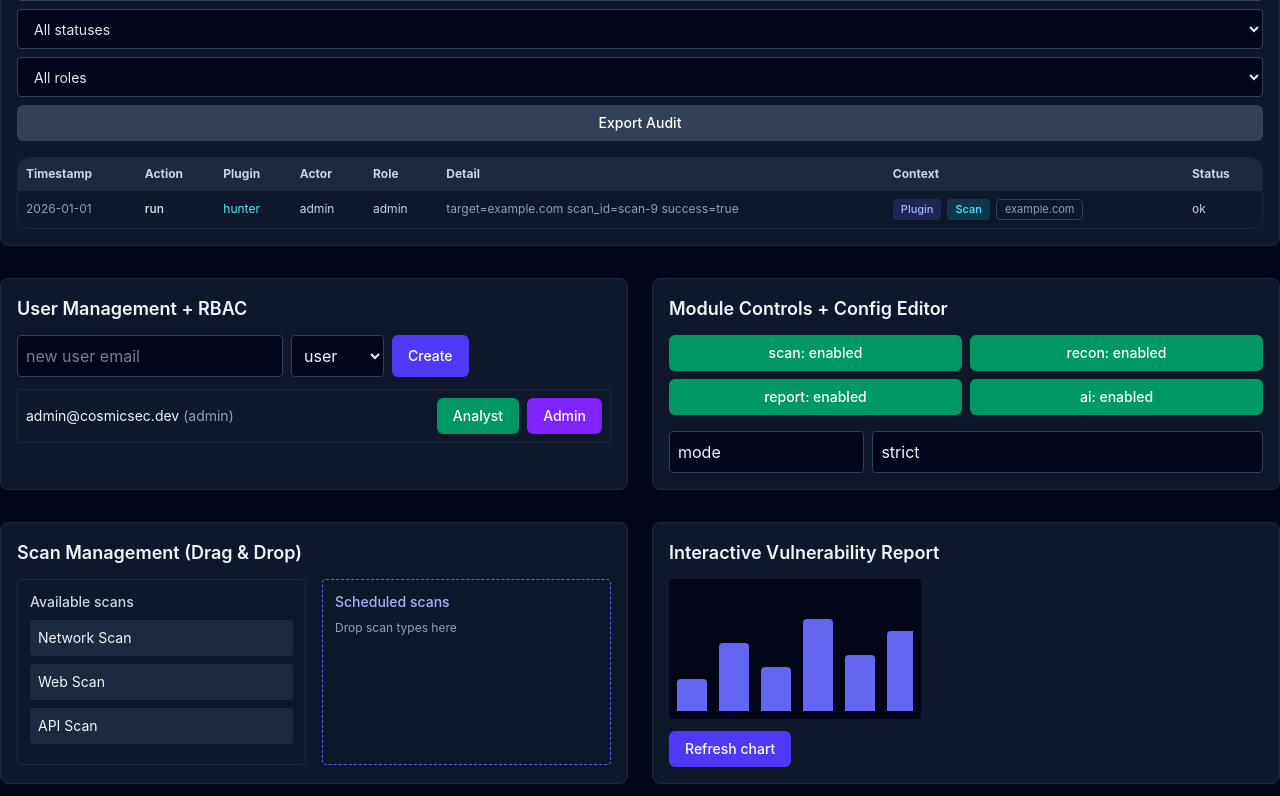
Test case: AdminDashboardPage › toggles module state labels
(page scrolled)
Expected: the text "admin@cosmicsec.dev (admin)" is shown, [26,406,234,426]
Click the button "ai: enabled": (1116, 397) [970,379,1263,415]
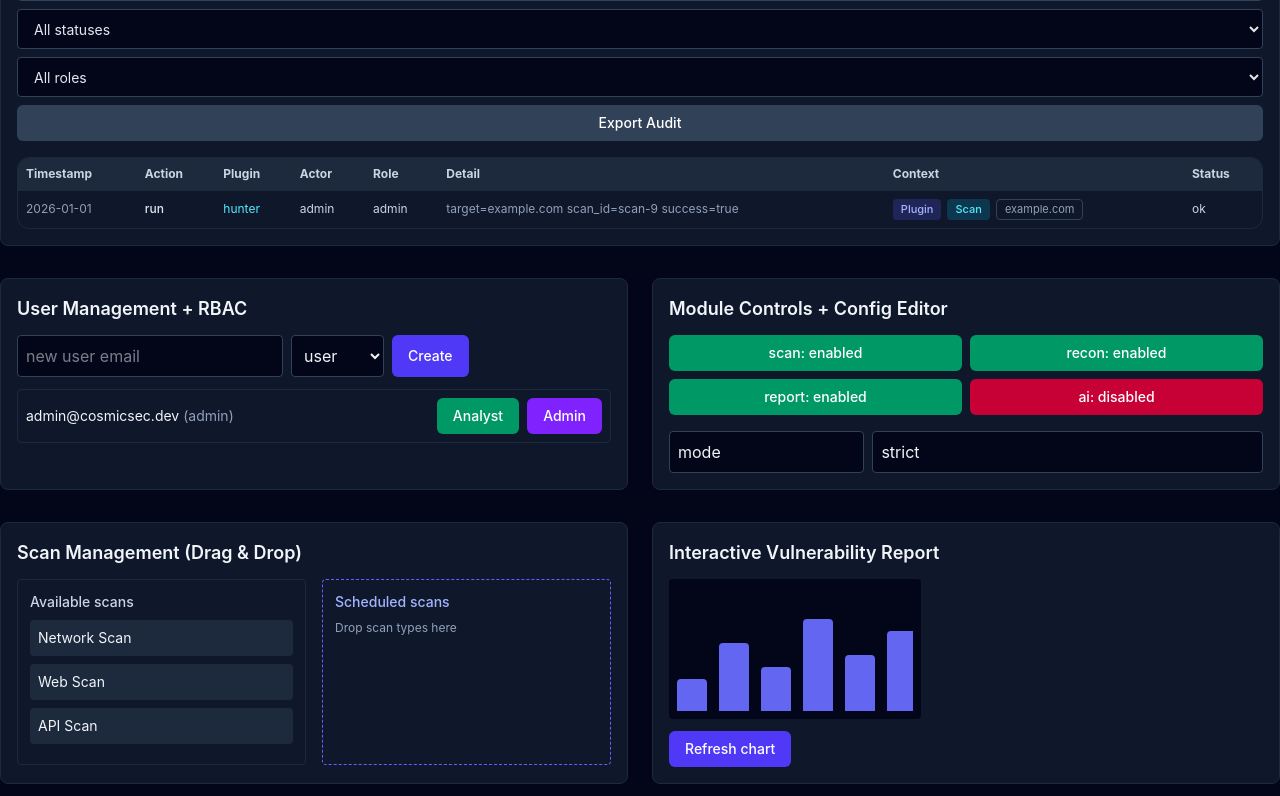
Result: the button "ai: disabled" is shown at [970,379,1263,415]
